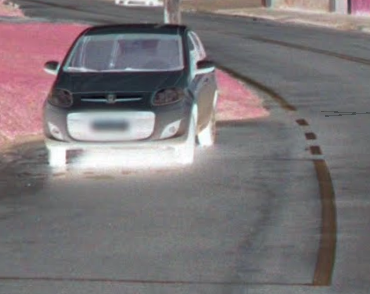car: (36, 19, 234, 174)
